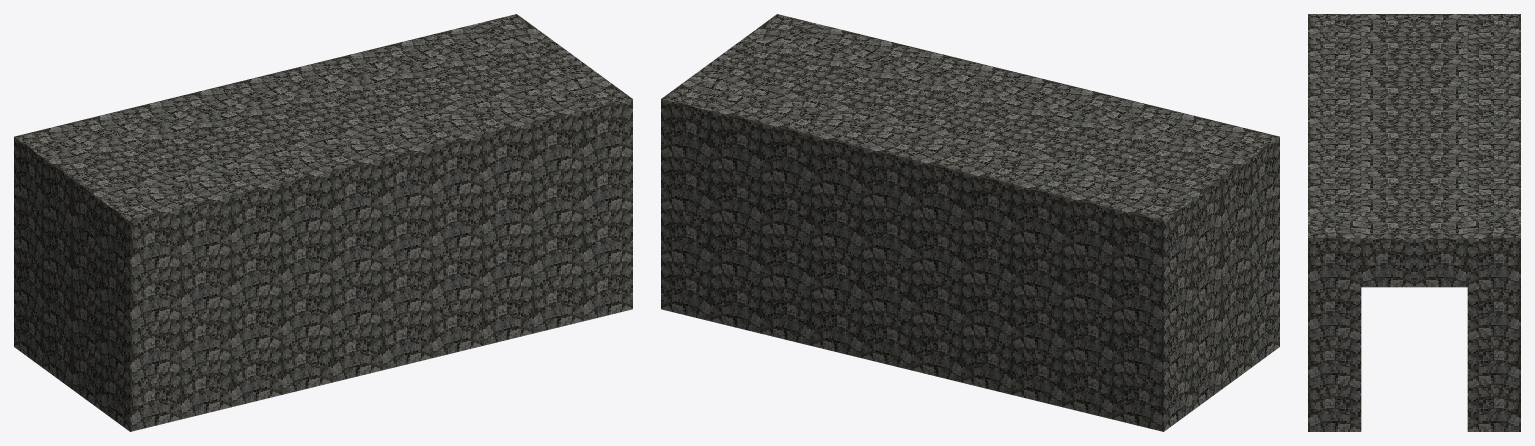
Rendered from tunnel.glb.
3 views of the same model, side by side, from view 1: azimuth 30°, elevation 25°; view 2: azimuth 150°, elevation 25°; view 3: azimuth 270°, elevation 25° (orthographic). The views are drawn at different scales.
Visible parts, largest first — view 1: Cube; view 2: Cube; view 3: Cube.
Part boxes in pixels (bbox=[...]): Cube: bbox=[14, 14, 632, 431]; Cube: bbox=[661, 14, 1279, 431]; Cube: bbox=[1308, 14, 1520, 431].
Bounding box in the file's own units: 10 × 4 × 4.
Materials: 2 (1 with a texture image).
